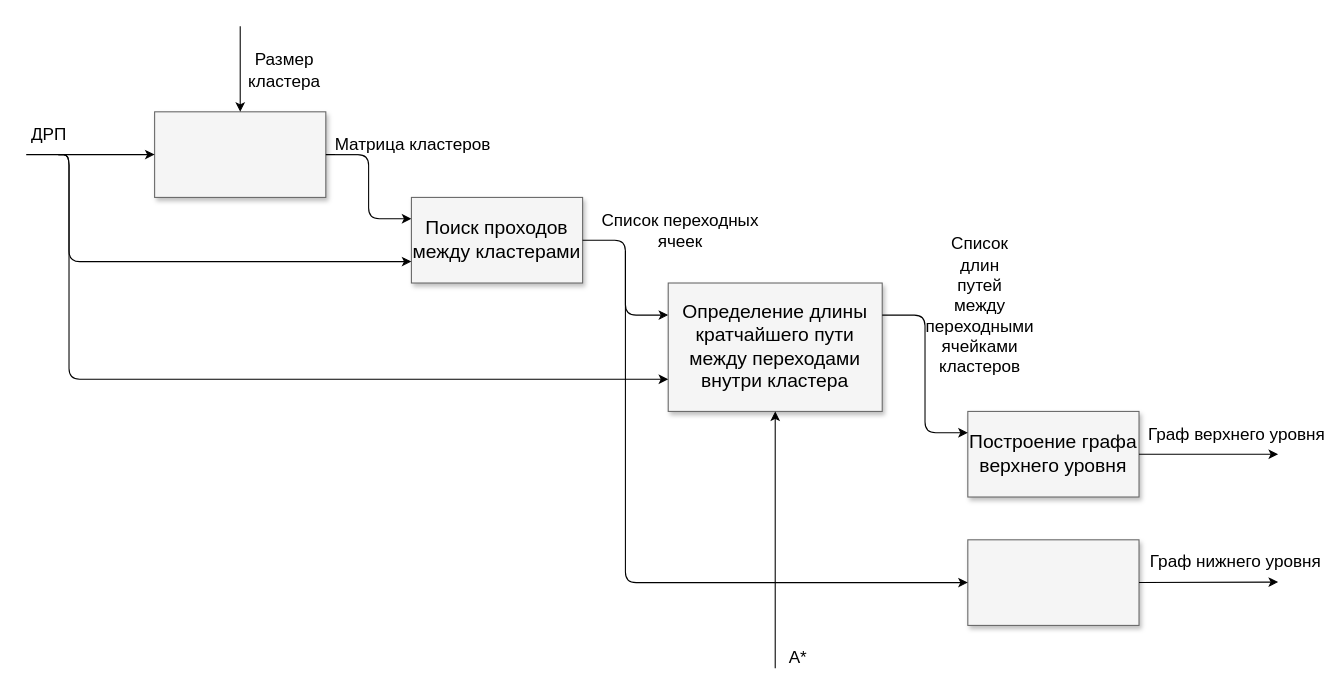
Image size: 1343x696. Some labels were removed from this diagram. The shapes that lost their labels are listed below. From the top down, each one's centre as x and y in pixels, then its label:
At point (240, 155): "Разбиение на кластеры".
At point (1053, 583): "Построение графов нижнего уровня".
